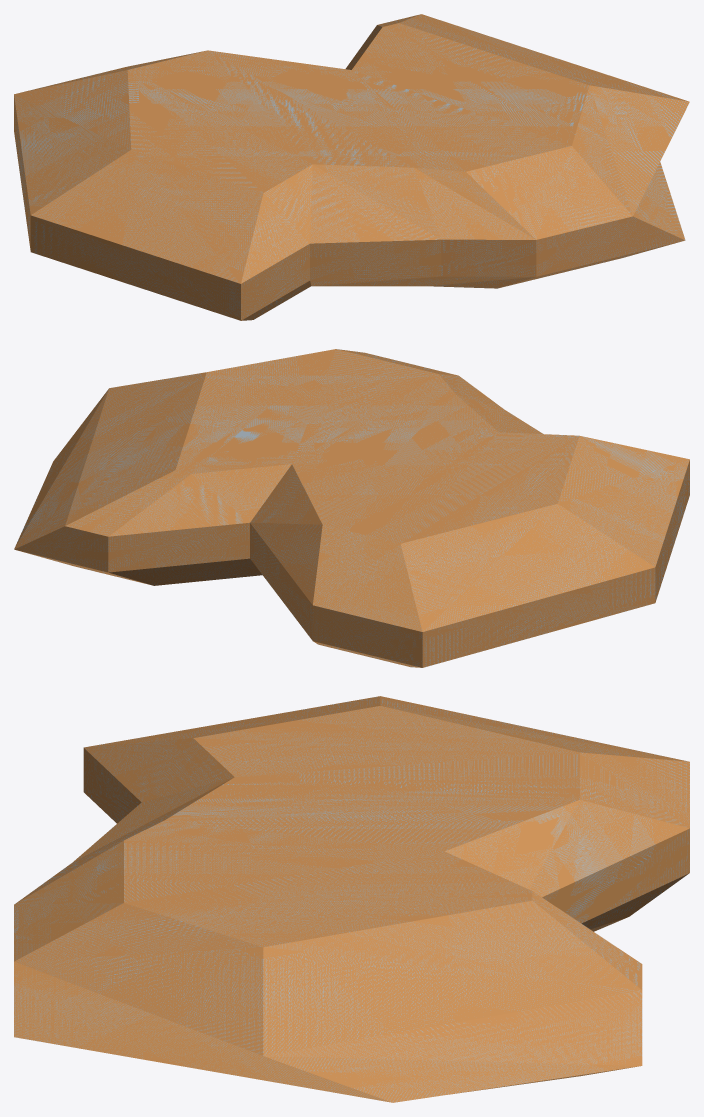
The model's file is Rock_Medium_Flat_Dirt_01.fbx.
3 renders of one model, top to bottom at view 1: azimuth 30°, elevation 25°; view 2: azimuth 150°, elevation 25°; view 3: azimuth 270°, elevation 25°, orthographic. The views are drawn at different scales.
Parts seen in each view (by area): view 1: Model; view 2: Model; view 3: Model.
Part boxes in pixels (x1=…): Model: x1=14, y1=14, x2=689, y2=320; Model: x1=14, y1=349, x2=689, y2=667; Model: x1=14, y1=696, x2=689, y2=1102.
Bounding box in the file's own units: 518 × 84.25 × 408.
